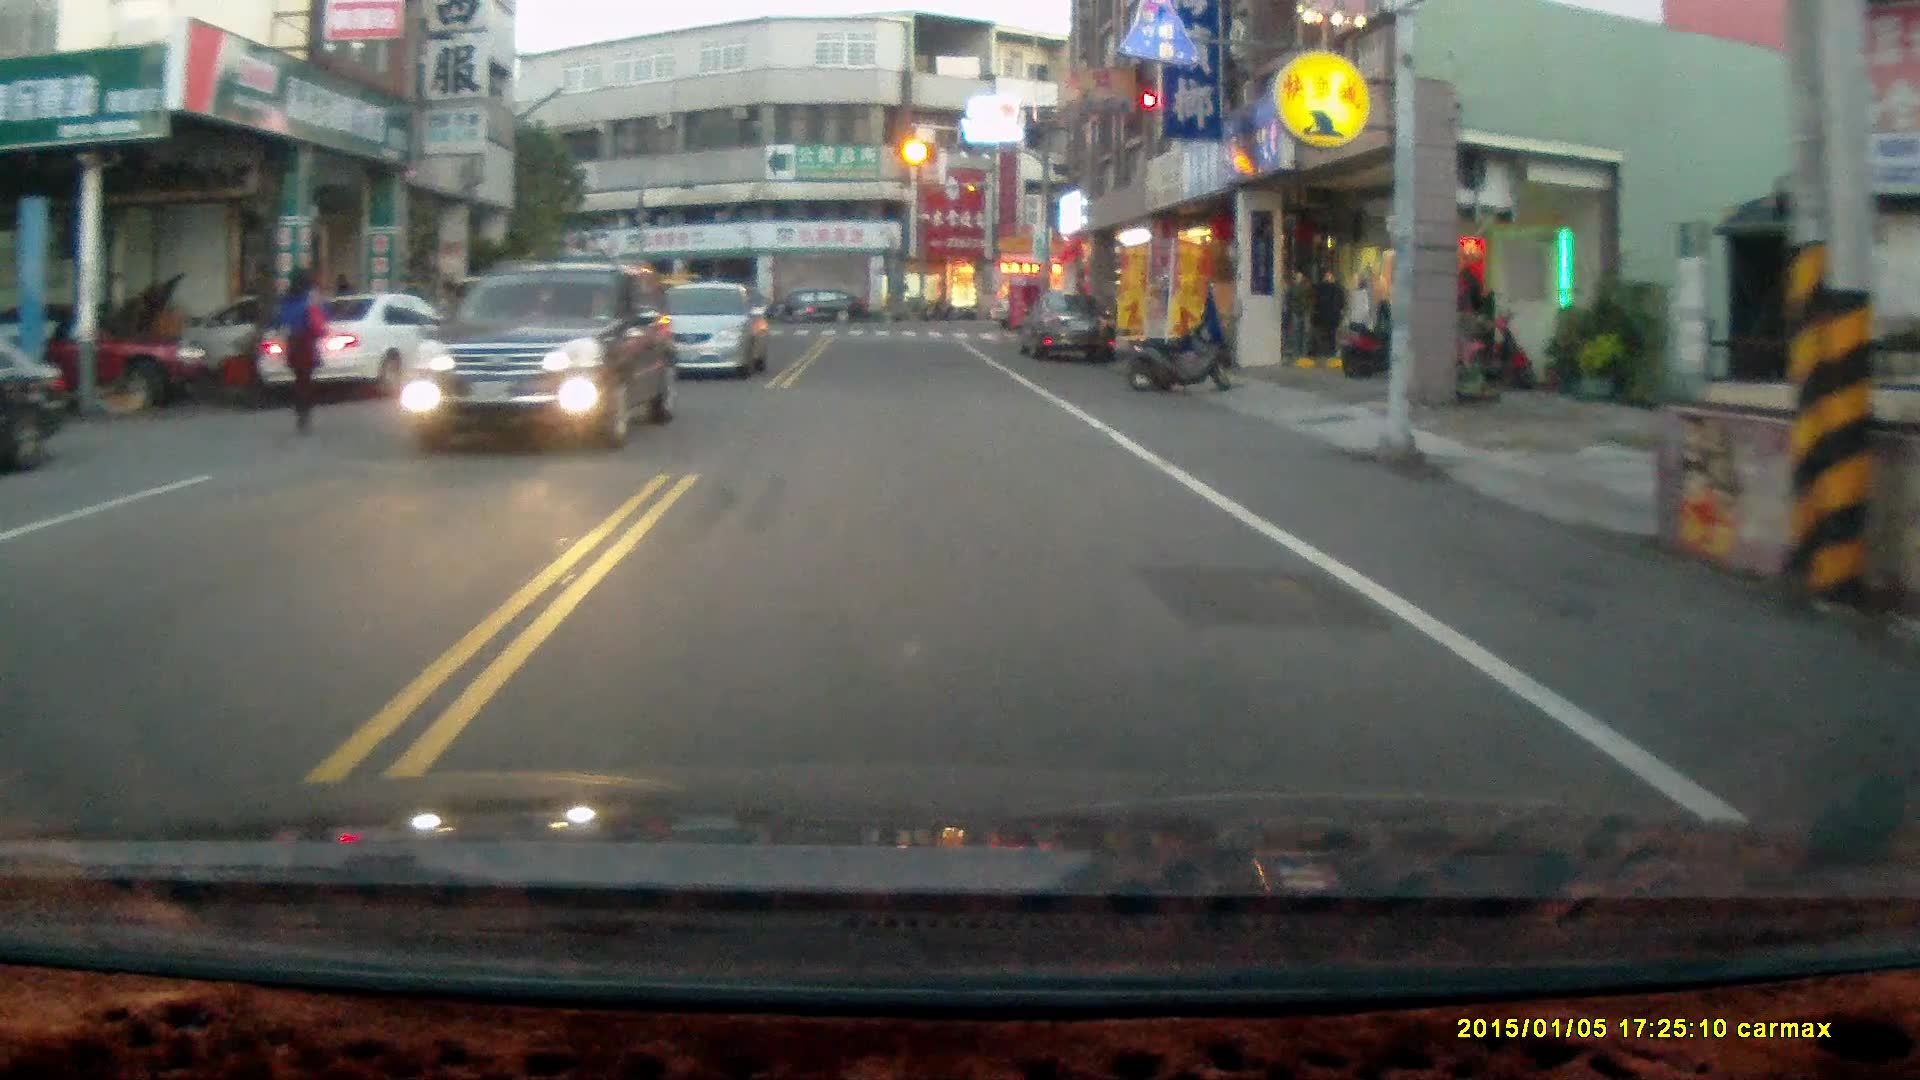pedestrian: (277, 261, 324, 436)
vehicle: (409, 260, 678, 451), (248, 293, 496, 403), (642, 278, 769, 380), (1, 317, 76, 466), (1019, 288, 1120, 371), (768, 286, 871, 330)
